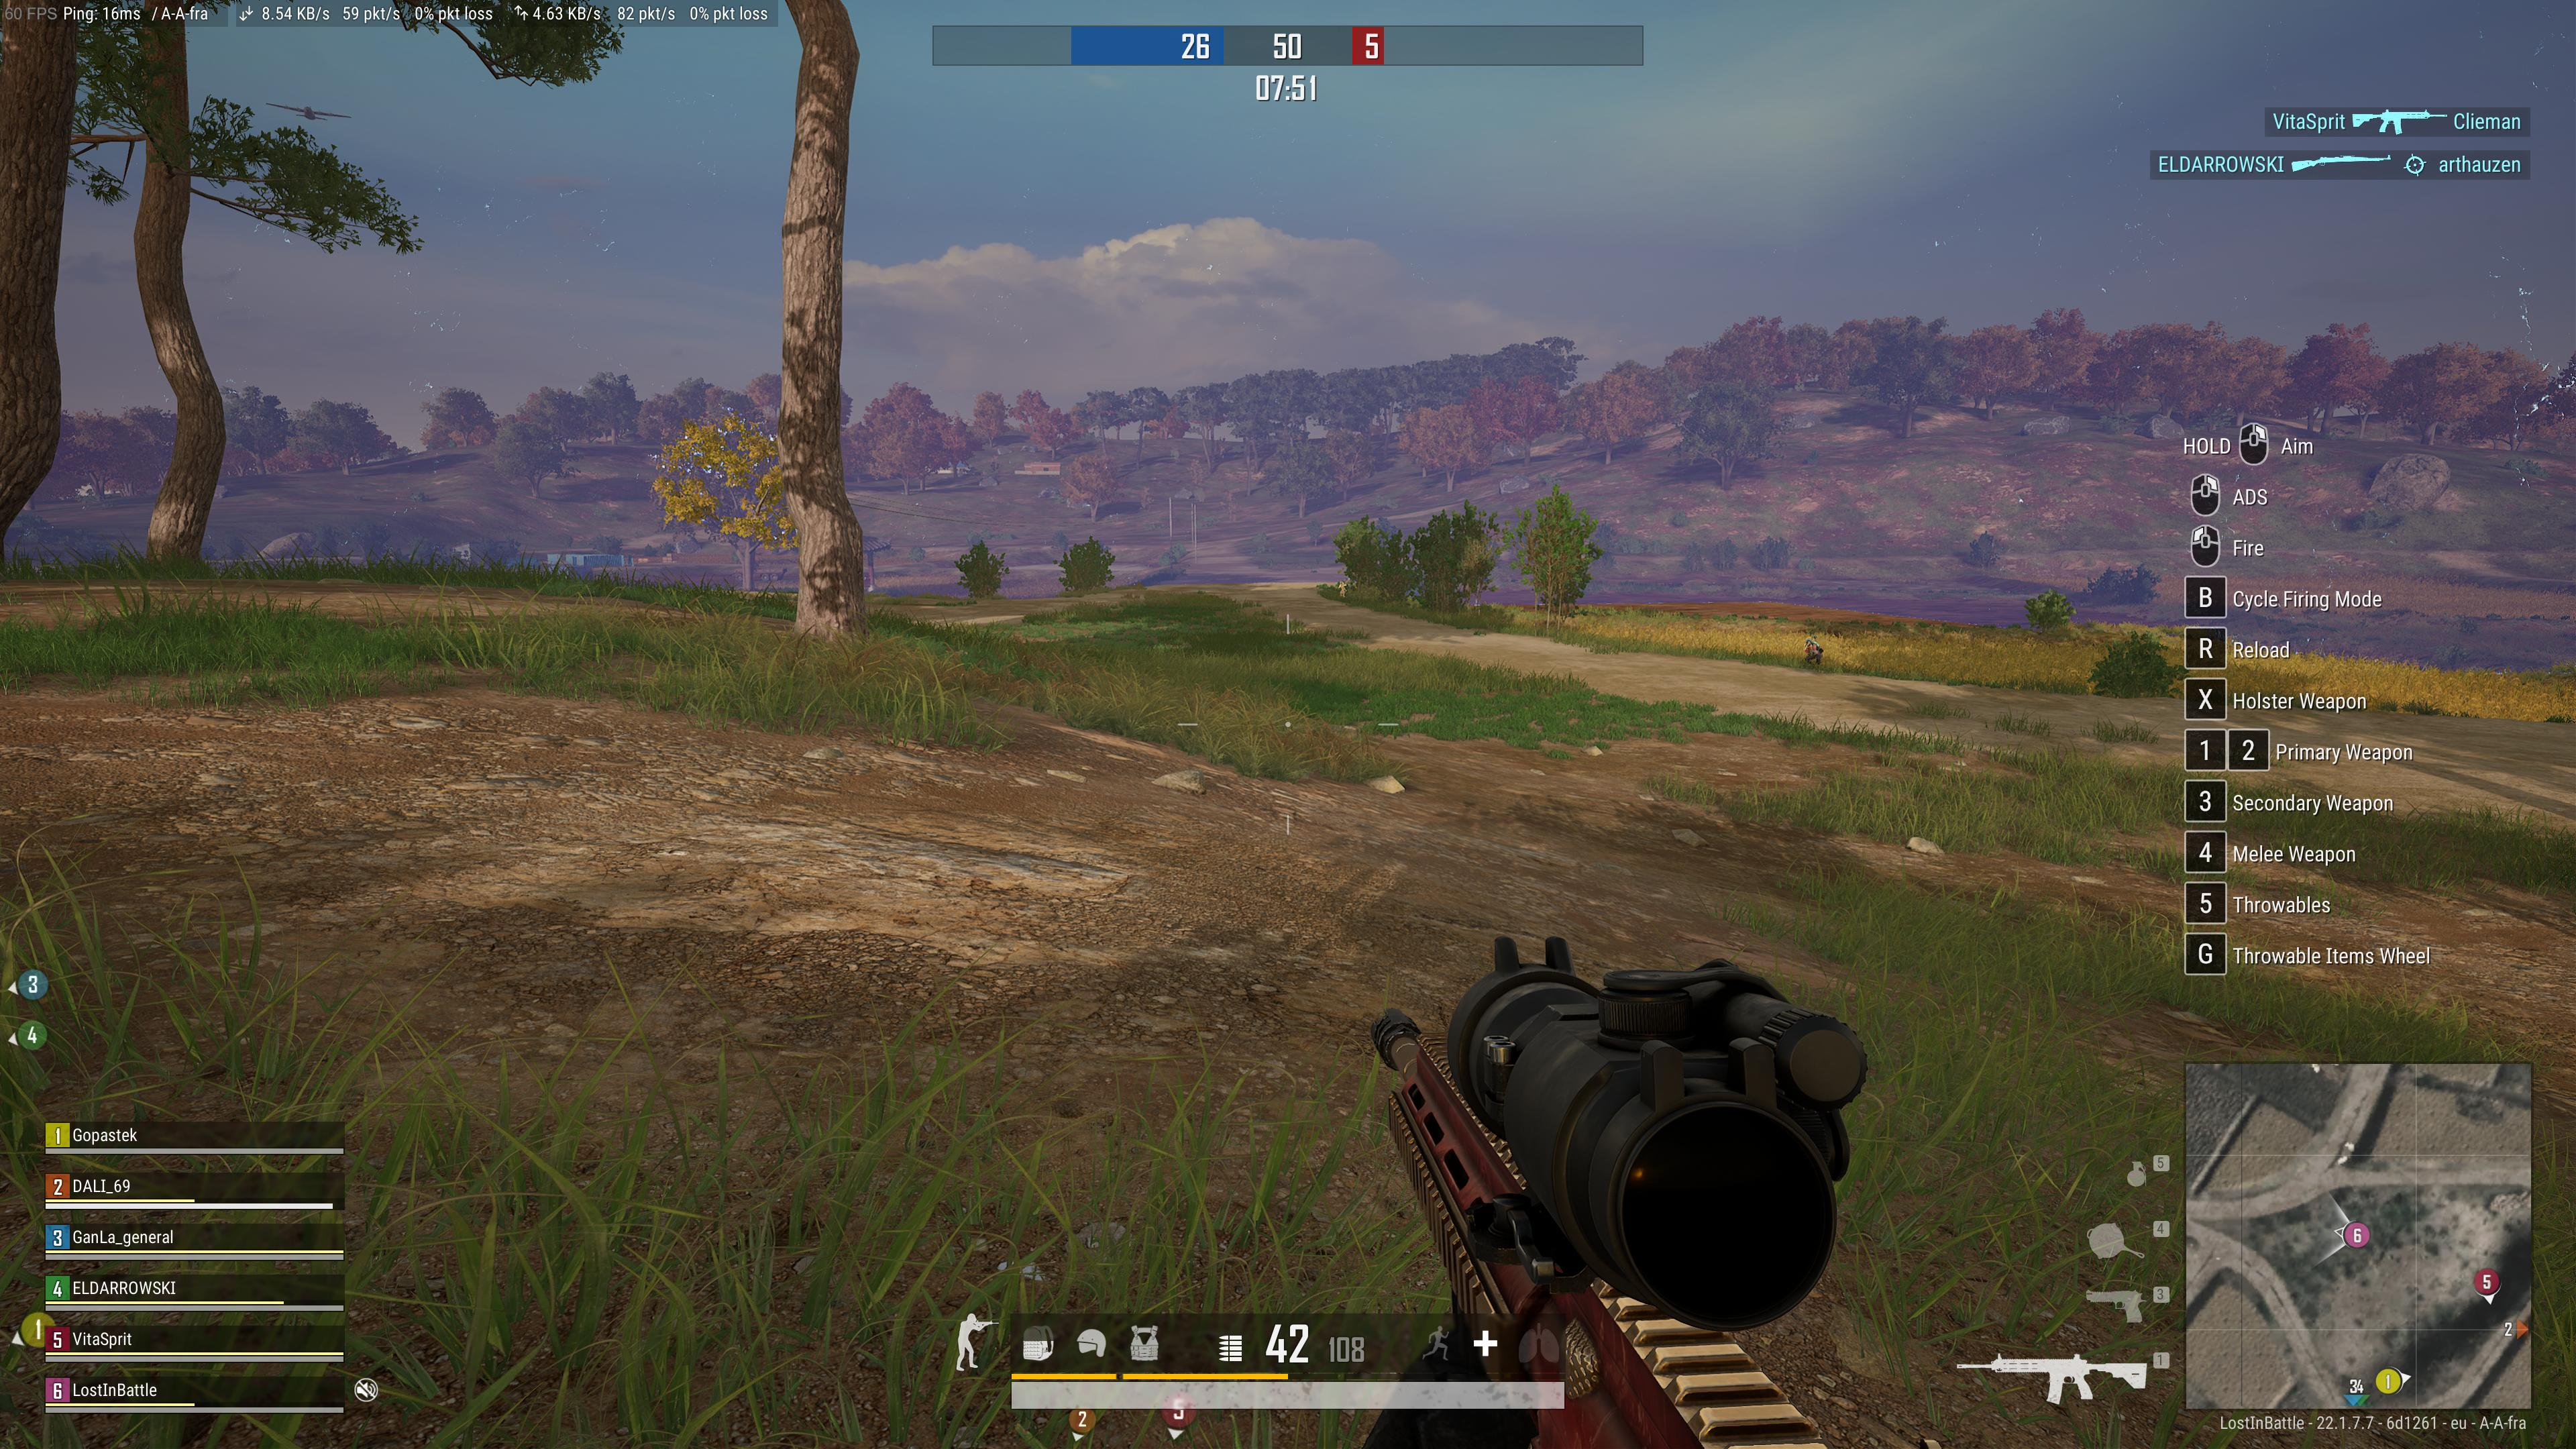enemy: (1801, 637, 1824, 669), (1338, 580, 1346, 598)
enemy_head: (1805, 639, 1813, 646)
